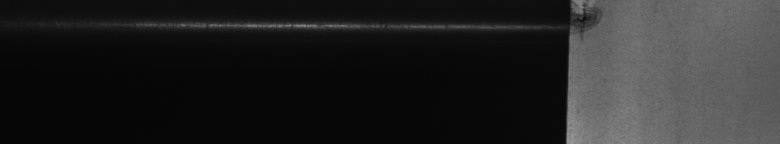hb: (580, 4, 605, 40)
